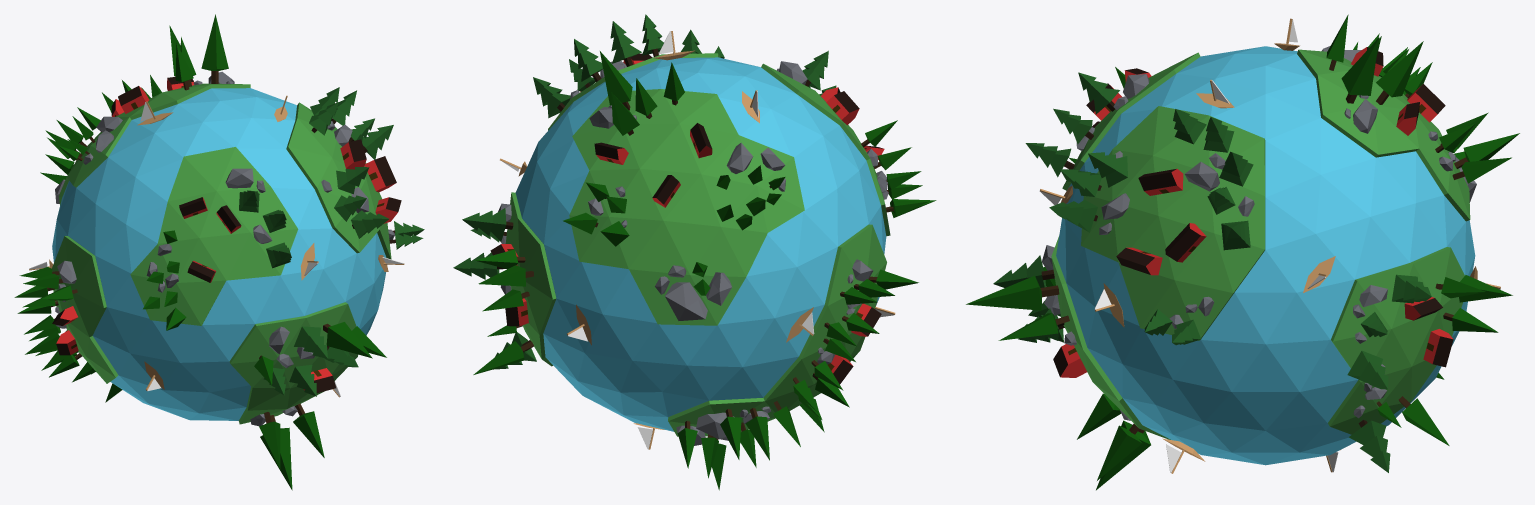
The model's file is PolyWorld.glb.
The picture shows the model from 3 angles, left to right: view 1: azimuth 30°, elevation 25°; view 2: azimuth 150°, elevation 25°; view 3: azimuth 270°, elevation 25°; orthographic projection. The views are drawn at different scales.
Parts seen in each view (by area): view 1: Water, Ground, Tree.001, Tree.022, Tree.019, Fir.013, House.009, Tree.018, Tree.020, Fir.007, House.010, Fir.003 (+8 smaller); view 2: Water, Ground, Stone.035, Tree.001, Fir.008, Fir.006, Fir, Tree.016, Fir.002, Tree.013, Tree.003, House.012 (+12 smaller); view 3: Water, Ground, Tree.022, Tree.001, Fir.011, Tree.003, Tree.018, Fir.010, House.010, Fir.007, Fir.003, House.009 (+23 smaller).
Boxes of the visible parts, x1,y1,x2,y2 form: Water: (52, 88, 386, 420); Ground: (52, 83, 391, 424); Tree.001: (201, 14, 228, 83); Tree.022: (323, 322, 372, 358); Tree.019: (260, 415, 292, 490); Fir.013: (294, 326, 327, 358); House.009: (364, 156, 396, 192); Tree.018: (293, 403, 324, 457); Tree.020: (259, 412, 280, 469); Fir.007: (351, 210, 388, 238); House.010: (340, 139, 366, 169); Fir.003: (336, 167, 369, 194); Water: (515, 57, 886, 431); Ground: (505, 53, 890, 436); Stone.035: (665, 282, 707, 320); Tree.001: (600, 51, 632, 110); Fir.008: (462, 208, 513, 241); Fir.006: (533, 77, 570, 118); Fir: (610, 21, 641, 66); Tree.016: (473, 341, 533, 374); Fir.002: (574, 39, 602, 81); Tree.013: (478, 265, 533, 286); Tree.003: (611, 92, 639, 135); House.012: (826, 91, 859, 125); Water: (1056, 46, 1475, 465); Ground: (1051, 49, 1470, 439); Tree.022: (966, 275, 1059, 310); Tree.001: (1341, 37, 1379, 103); Fir.011: (1349, 420, 1390, 472); Tree.003: (1376, 41, 1423, 104); Tree.018: (1097, 423, 1142, 480); Fir.010: (1347, 350, 1388, 389); House.010: (1138, 169, 1183, 195); Fir.007: (1049, 199, 1097, 232); Fir.003: (1088, 152, 1127, 187); House.009: (1165, 223, 1206, 262).
Bounding box in the file's own units: 2.47 × 2.54 × 2.67.
